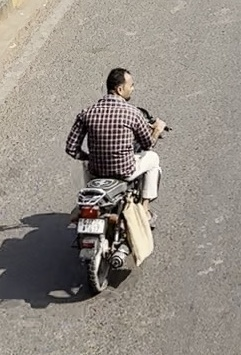BikeWithRider: (59, 62, 176, 297)
NoHelmet: (98, 63, 140, 103)
